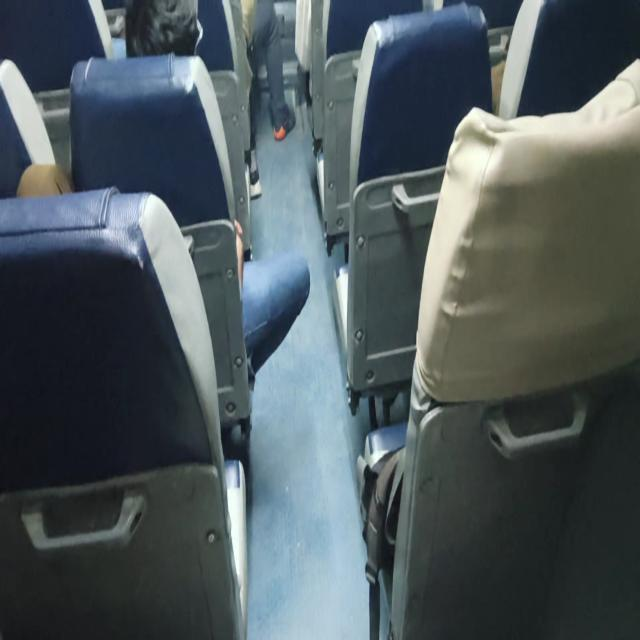person: (369, 56, 639, 636), (124, 1, 310, 378), (16, 160, 310, 378), (234, 217, 310, 379), (242, 0, 296, 142), (124, 0, 203, 58)
